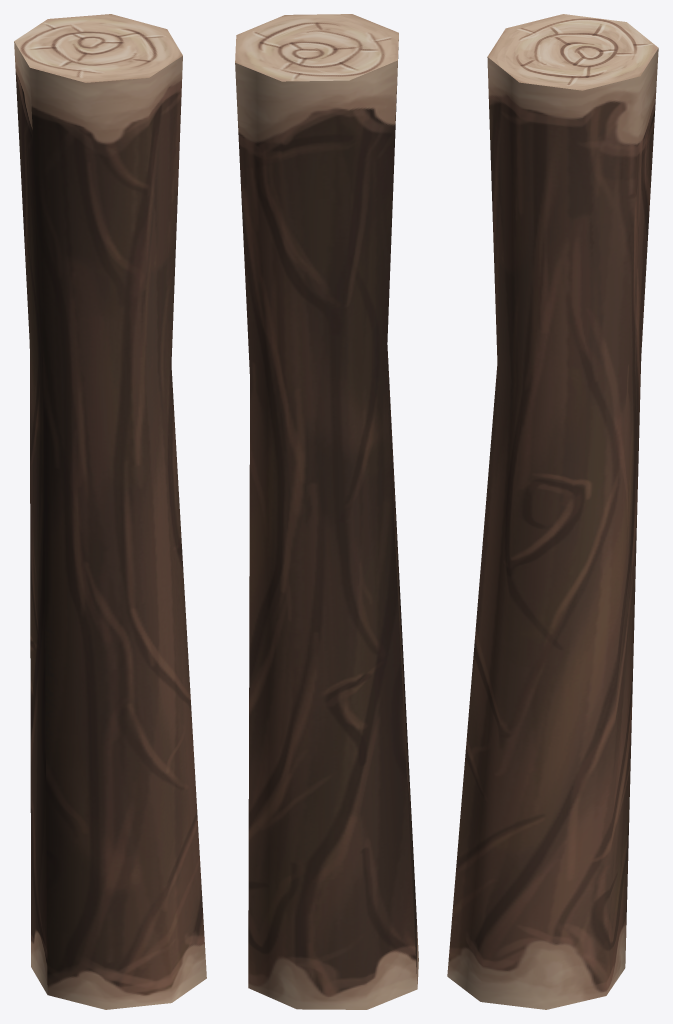
File: wooden_pillar_02.fbx
The picture shows the model from 3 angles, left to right: view 1: azimuth 30°, elevation 25°; view 2: azimuth 150°, elevation 25°; view 3: azimuth 270°, elevation 25°; orthographic projection. The views are drawn at different scales.
Visible parts, largest first — view 1: wooden_pillar_02; view 2: wooden_pillar_02; view 3: wooden_pillar_02.
Boxes of the visible parts, box(x1,y1,x2,y2) form: wooden_pillar_02: box(14, 14, 206, 1009); wooden_pillar_02: box(235, 14, 418, 1009); wooden_pillar_02: box(447, 14, 658, 1009).
Bounding box in the file's own units: 1.56 × 8.89 × 1.85.
